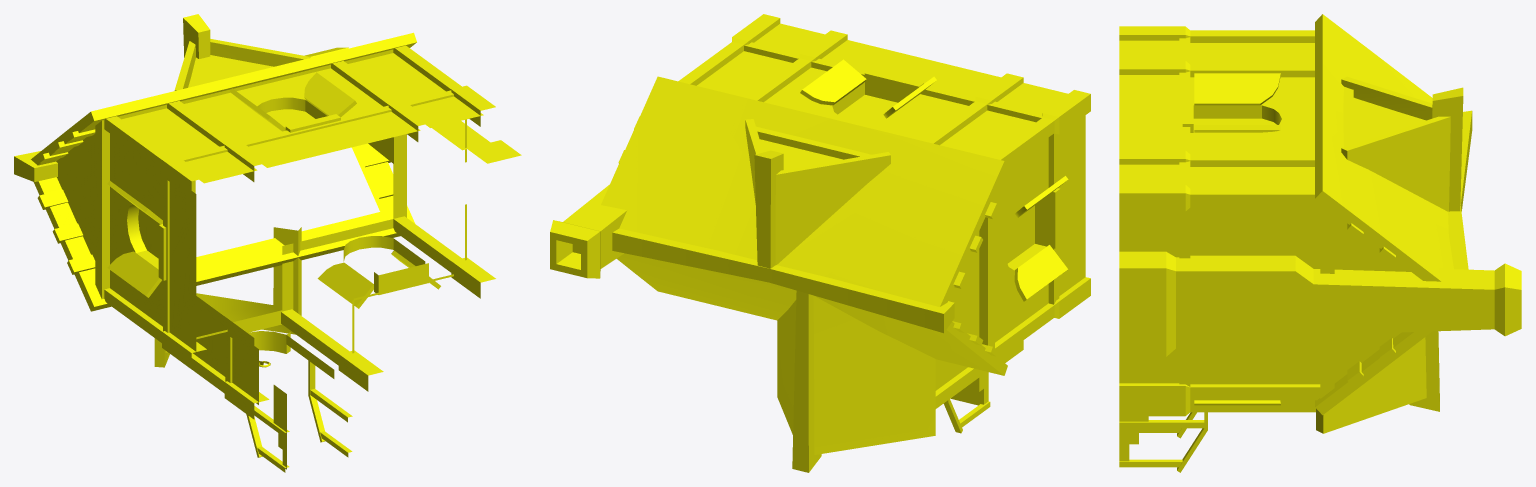
Rendered from house1.glb.
The picture shows the model from 3 angles, left to right: view 1: azimuth 30°, elevation 25°; view 2: azimuth 150°, elevation 25°; view 3: azimuth 270°, elevation 25°; orthographic projection. The views are drawn at different scales.
Parts seen in each view (by area): view 1: House1; view 2: House1; view 3: House1.
Part boxes in pixels (bbox=[...]): House1: bbox=[14, 14, 521, 472]; House1: bbox=[550, 14, 1090, 472]; House1: bbox=[1119, 14, 1521, 472].
Size of what is drawn, in the model's own units: 8.21 by 7.5 by 7.26.
1 material, 1 textured.
